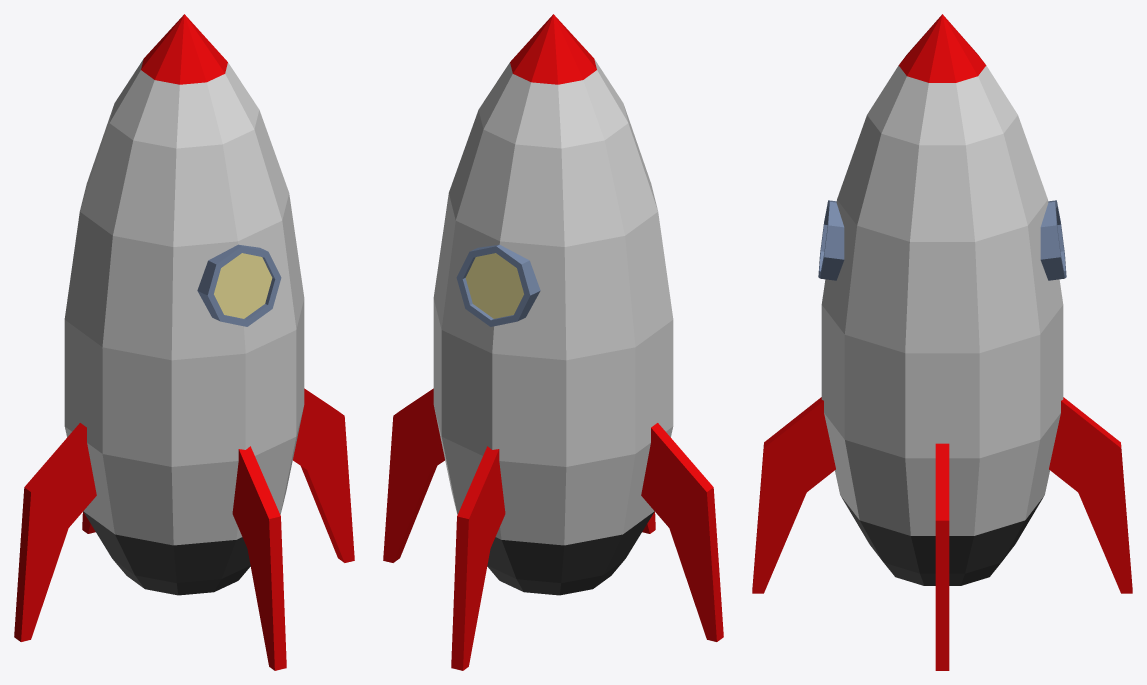
File: LowPolyRocket_NoSmoke.glb
The picture shows the model from 3 angles, left to right: view 1: azimuth 30°, elevation 25°; view 2: azimuth 150°, elevation 25°; view 3: azimuth 270°, elevation 25°; orthographic projection.
Parts seen in each view (by area): view 1: Rocket, Fins, Fins.001, Window; view 2: Rocket, Fins, Fins.001, Window; view 3: Rocket, Fins.001, Fins, Window.
Boxes of the visible parts, x1,y1,x2,y2 form: Rocket: [64, 14, 304, 595]; Fins: [14, 388, 354, 641]; Fins.001: [82, 446, 286, 670]; Window: [197, 244, 281, 326]; Rocket: [433, 14, 673, 595]; Fins: [383, 388, 723, 641]; Fins.001: [451, 446, 655, 670]; Window: [456, 244, 540, 326]; Rocket: [821, 14, 1063, 585]; Fins.001: [752, 397, 1132, 593]; Fins: [935, 443, 949, 670]; Window: [818, 200, 1066, 280].
Bounding box in the file's own units: 4.75 × 7.95 × 4.75.
